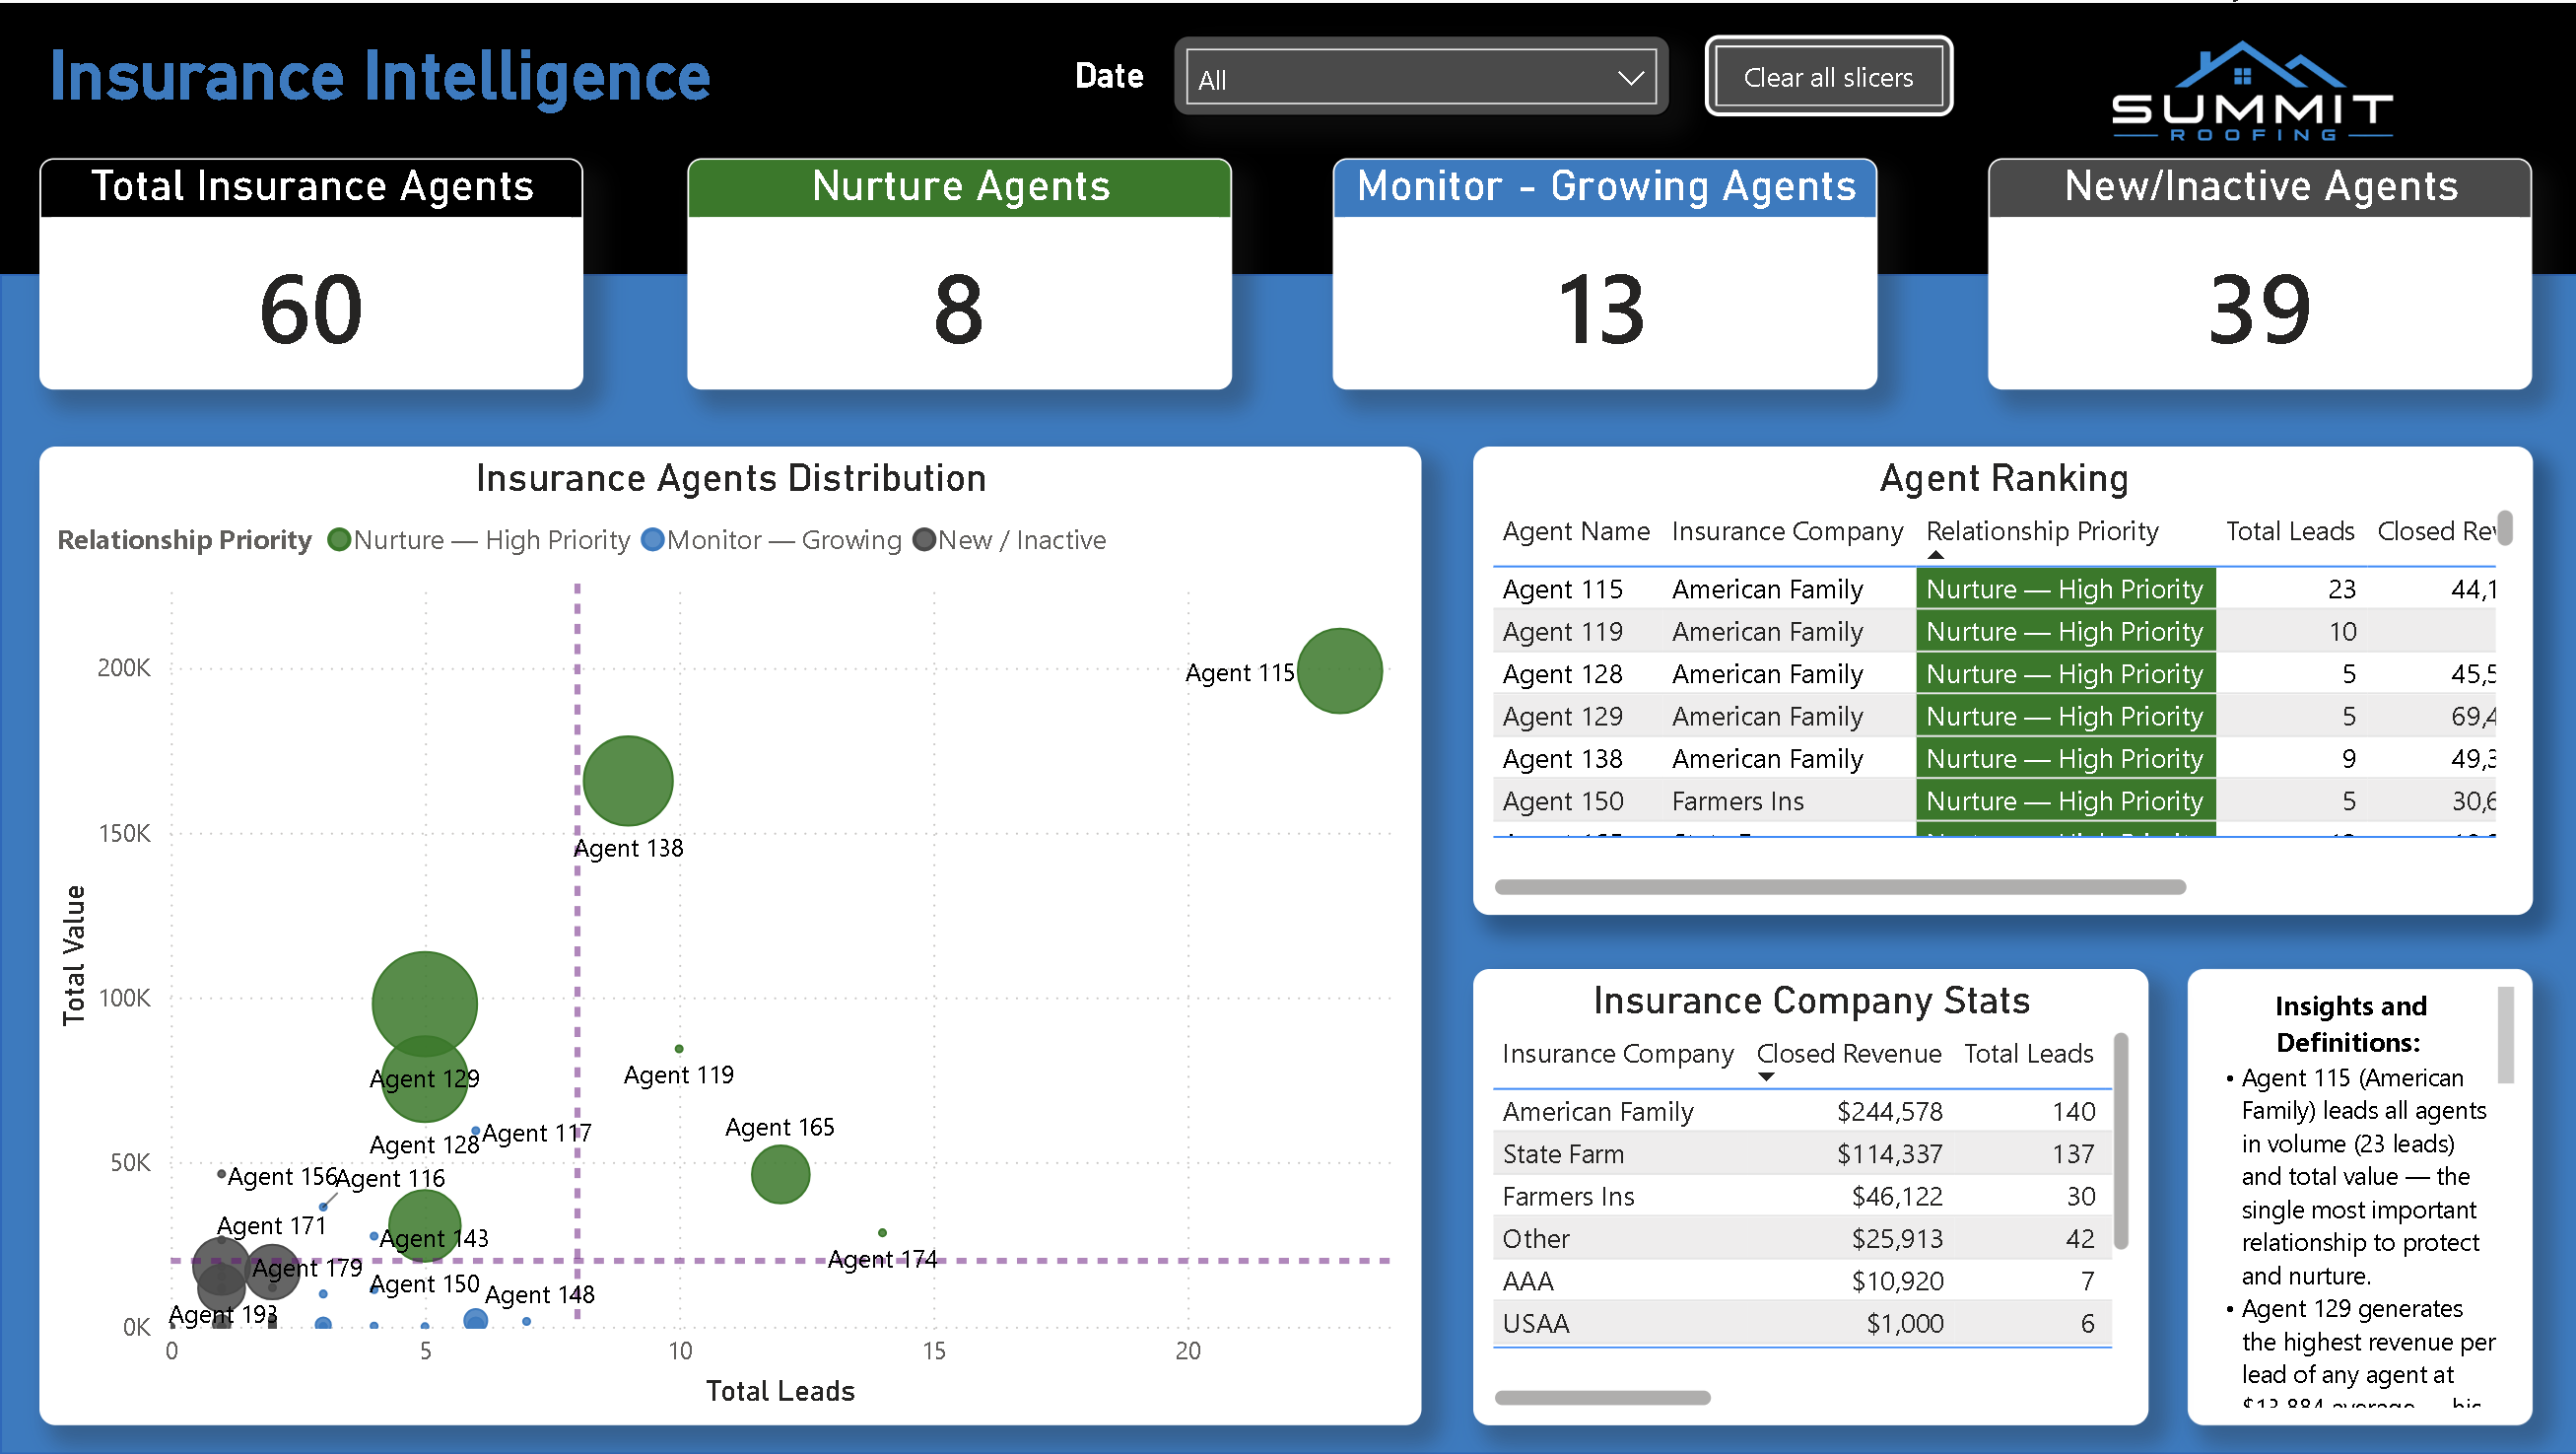

The page's visual inventory and layout, read from the dashboard file:
{"tool":"powerbi","page":{"name":"Insurance Intelligence","canvas":[1280,720],"ordinal":3},"visuals":[{"type":"image","box":[978.3,11,280,66],"z":0},{"type":"shape","box":[0,134.5,1280.3,585.7],"z":1000},{"type":"cardVisual","title":"Monitor - Growing Agents ","fields":{"Data":["vw_agent_relationship_priority.Monitor Agents"]},"box":[661.6,77,270.2,114.9],"z":2000},{"type":"cardVisual","title":"Total Insurance Agents","fields":{"Data":["vw_agent_relationship_priority.Total Agents"]},"box":[19.6,77,270,114.9],"z":3000},{"type":"cardVisual","title":"New/Inactive Agents","fields":{"Data":["vw_agent_relationship_priority.New Inactive Agents"]},"box":[986.8,77,270,114.9],"z":4000},{"type":"cardVisual","title":"Nurture Agents","fields":{"Data":["vw_agent_relationship_priority.Nurture Agents"]},"box":[341.2,77,270.2,114.9],"z":6000},{"type":"textbox","box":[19.6,11,551.5,57.5],"z":7000},{"type":"slicer","title":"Month","fields":{"Values":["Dim_Date.Month Name","Dim_Date.Quarter","Dim_Date.Year","Dim_Date.Year-Month"]},"box":[582.1,15.9,247,40.4],"z":9000},{"type":"textbox","box":[519.7,20.8,62.4,39.1],"z":10000},{"type":"textbox","box":[1085.9,479.4,171.2,226.2],"z":11000},{"type":"actionButton","box":[846.2,15.9,123.5,40.4],"z":13000},{"type":"tableEx","title":"Insurance Company Stats","fields":{"Values":["vw_insurance_company_ranking.company_name","vw_insurance_company_ranking.IC Closed Revenue","vw_insurance_company_ranking.IC Total Leads","vw_insurance_company_ranking.IC Approval Rate","vw_insurance_company_ranking.IC Close Rate","vw_insurance_company_ranking.IC Avg Contract","vw_insurance_company_ranking.IC Avg Days to Approve","vw_insurance_company_ranking.IC Avg Days to Close"]},"box":[731.4,479,335.3,226.5],"z":16000},{"type":"tableEx","title":"Agent Ranking ","fields":{"Values":["vw_agent_relationship_priority.agent_name","vw_agent_relationship_priority.company_name","vw_agent_relationship_priority.relationship_priority","Sum(vw_agent_relationship_priority.total_leads)","Sum(vw_agent_relationship_priority.closed_revenue)","Sum(vw_agent_relationship_priority.pipeline_value)","Sum(vw_agent_relationship_priority.total_value)"]},"box":[731.3,220.1,525.8,232.3],"z":17000},{"type":"scatterChart","title":"Insurance Agents Distribution","fields":{"X":["Sum(vw_agent_relationship_priority.total_leads)"],"Y":["Sum(vw_agent_relationship_priority.total_value)"],"Size":["Sum(vw_agent_relationship_priority.closed_revenue)"],"Series":["vw_agent_relationship_priority.relationship_priority"],"Category":["vw_agent_relationship_priority.agent_name"]},"box":[19.6,220.1,686,485.5],"z":17001}]}

Visuals, with their boxes in screenshot pixels (x1, y1, x2, y2), scaled from the page's 1280x720 canvas onto the 2576x1454 screenshot:
image: (left=1969, top=23, right=2533, bottom=156)
shape: (left=0, top=272, right=2575, bottom=1453)
"Monitor - Growing Agents " cardVisual: (left=1331, top=156, right=1875, bottom=387)
"Total Insurance Agents" cardVisual: (left=39, top=156, right=582, bottom=387)
"New/Inactive Agents" cardVisual: (left=1986, top=156, right=2530, bottom=387)
"Nurture Agents" cardVisual: (left=687, top=156, right=1231, bottom=387)
textbox: (left=39, top=23, right=1149, bottom=138)
"Month" slicer: (left=1172, top=33, right=1668, bottom=113)
textbox: (left=1046, top=42, right=1172, bottom=121)
textbox: (left=2186, top=968, right=2530, bottom=1424)
actionButton: (left=1703, top=33, right=1951, bottom=113)
"Insurance Company Stats" tableEx: (left=1472, top=967, right=2146, bottom=1424)
"Agent Ranking " tableEx: (left=1471, top=445, right=2530, bottom=914)
"Insurance Agents Distribution" scatterChart: (left=39, top=445, right=1420, bottom=1425)
